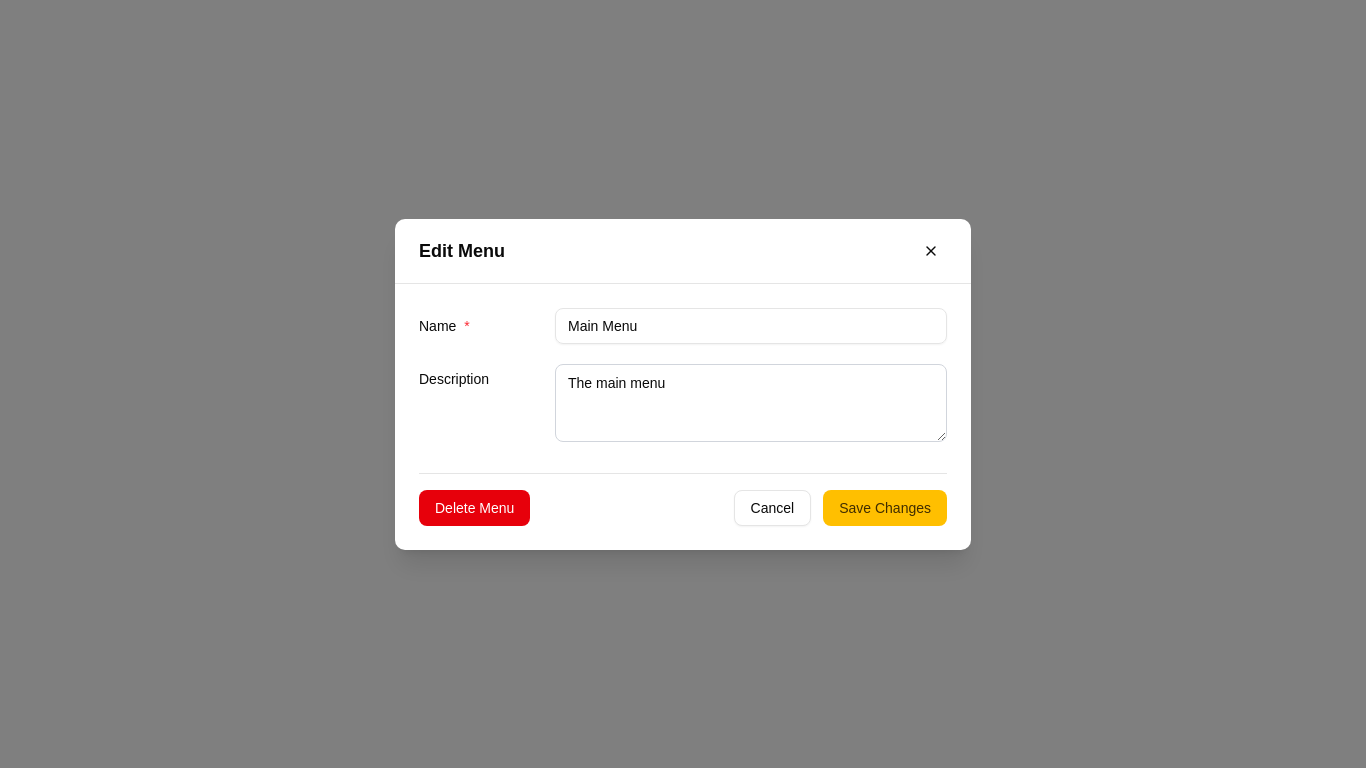
Test case: MenuForm › Error Handling › should display error when delete action fails
This screenshot has width=1366, height=768.
Click the button "Delete Menu". click: (475, 508)
box: [419,490,530,526]
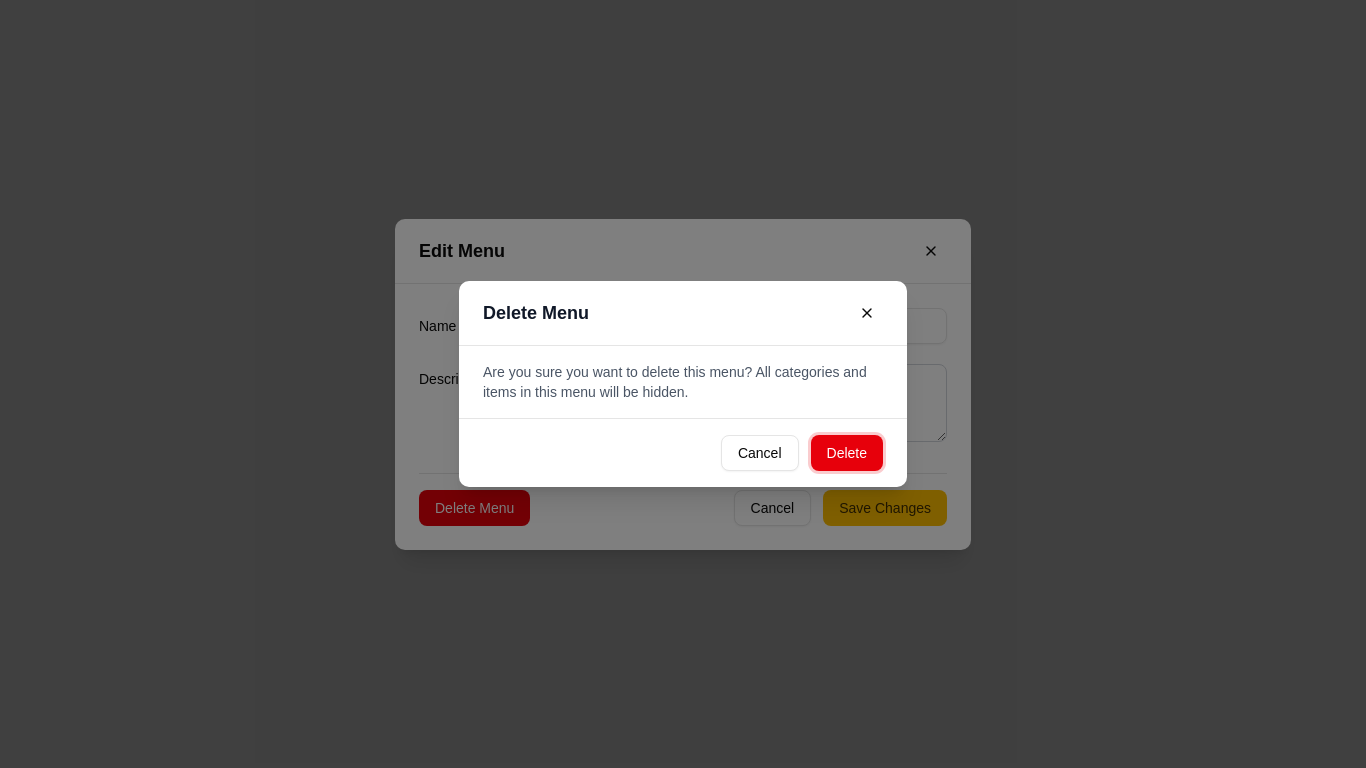
Click the button "Delete". click: (847, 453)
box: [810,435,883,471]
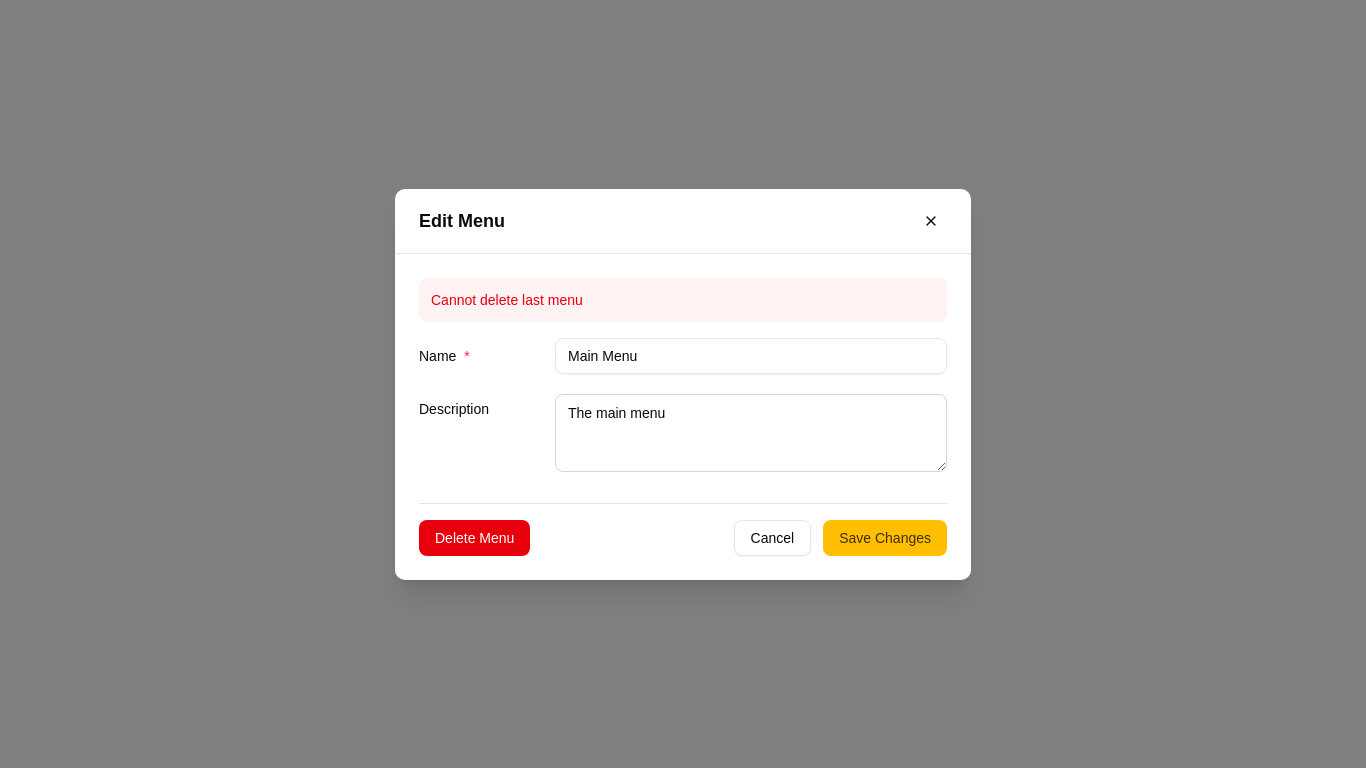
Check: the text "Cannot delete last menu" is shown, box [419,278,947,322]
